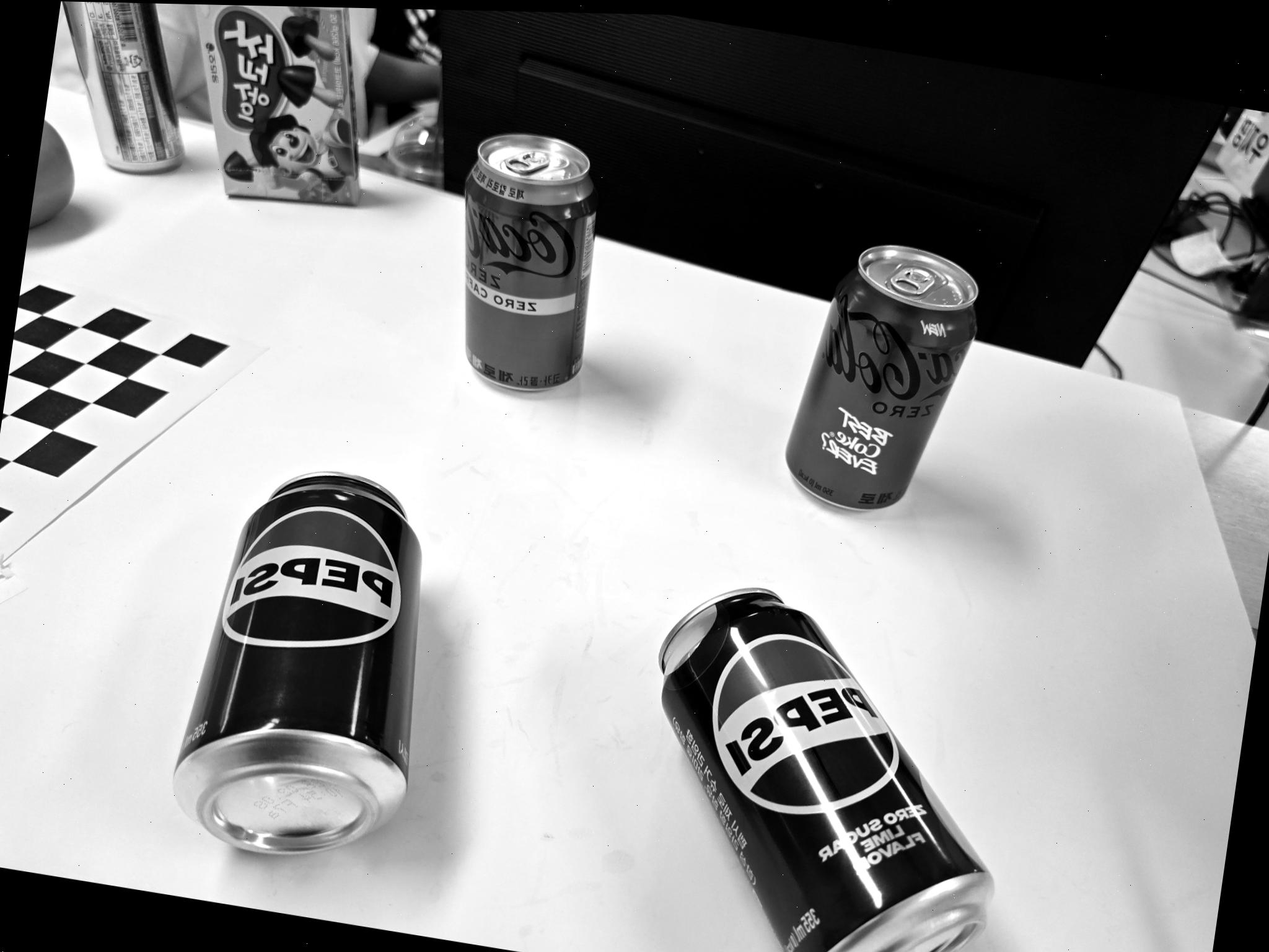can_coke_decaf: (464, 134, 598, 390)
can_coke_zero: (786, 245, 978, 510)
can_pepsi: (174, 472, 421, 854)
can_pepsi_zero: (659, 589, 992, 952)
